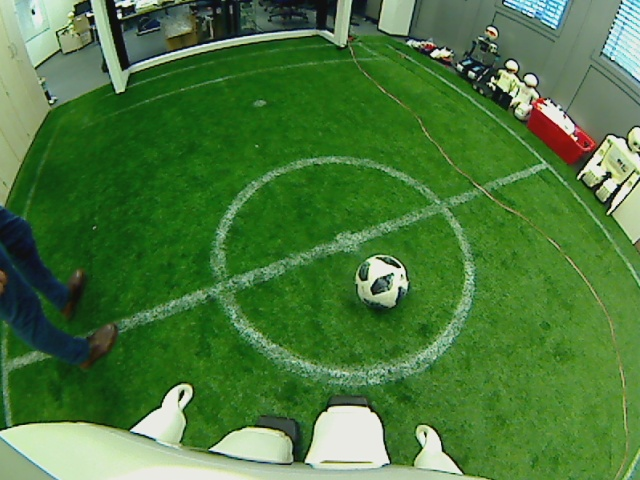ball: (353, 255, 410, 309)
